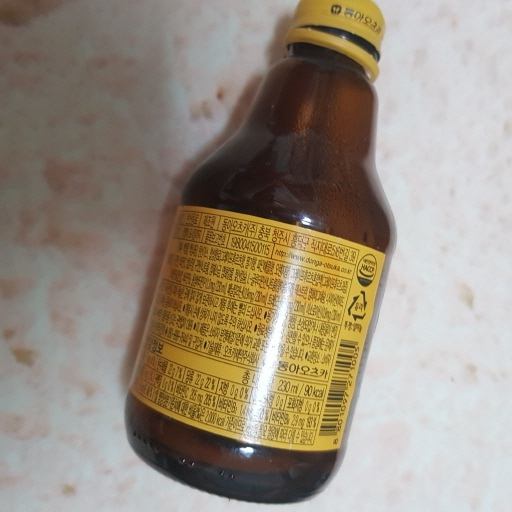Glass_3: (128, 4, 399, 502)
